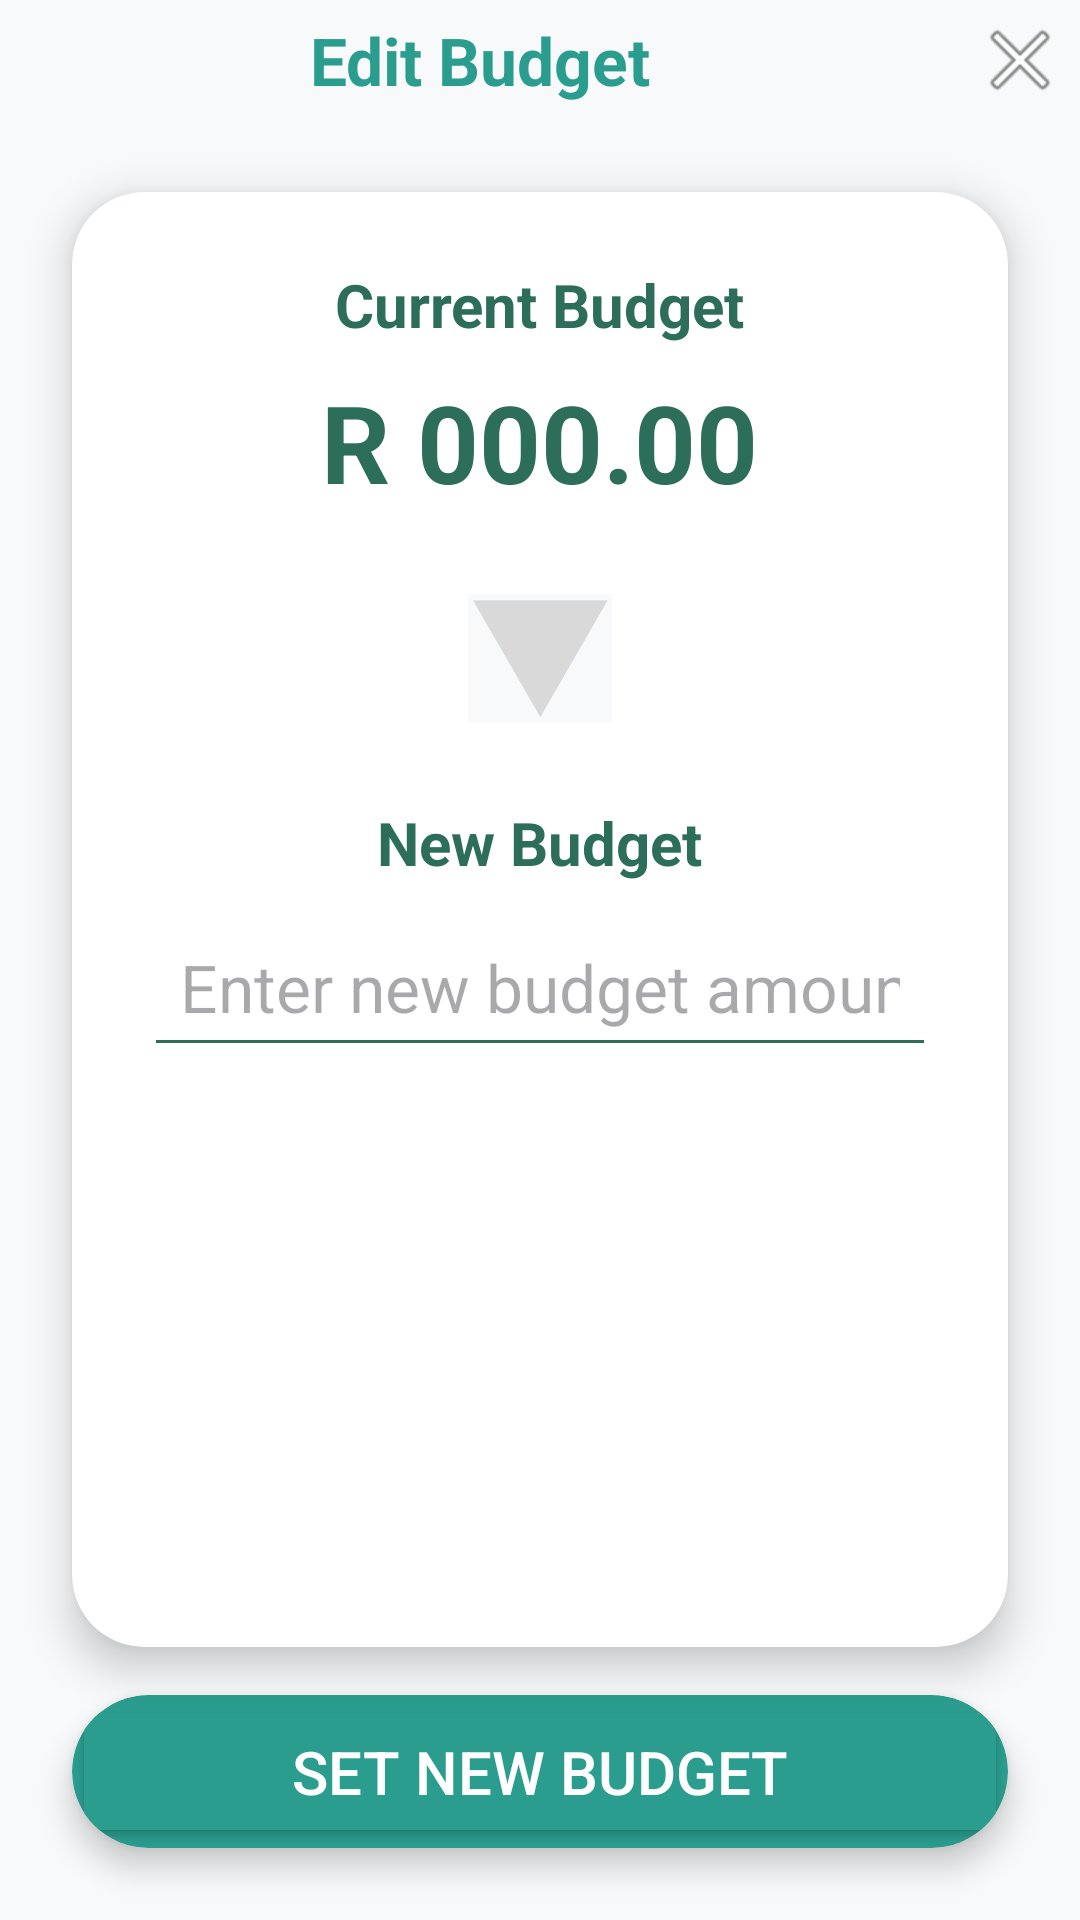

Where icons sit on this 1080px x 1920px app screen, as (left=x1, top=y1, right=x2, bottom=y2):
Arrow: (left=474, top=600, right=607, bottom=717)
Exit: (left=990, top=30, right=1050, bottom=90)
